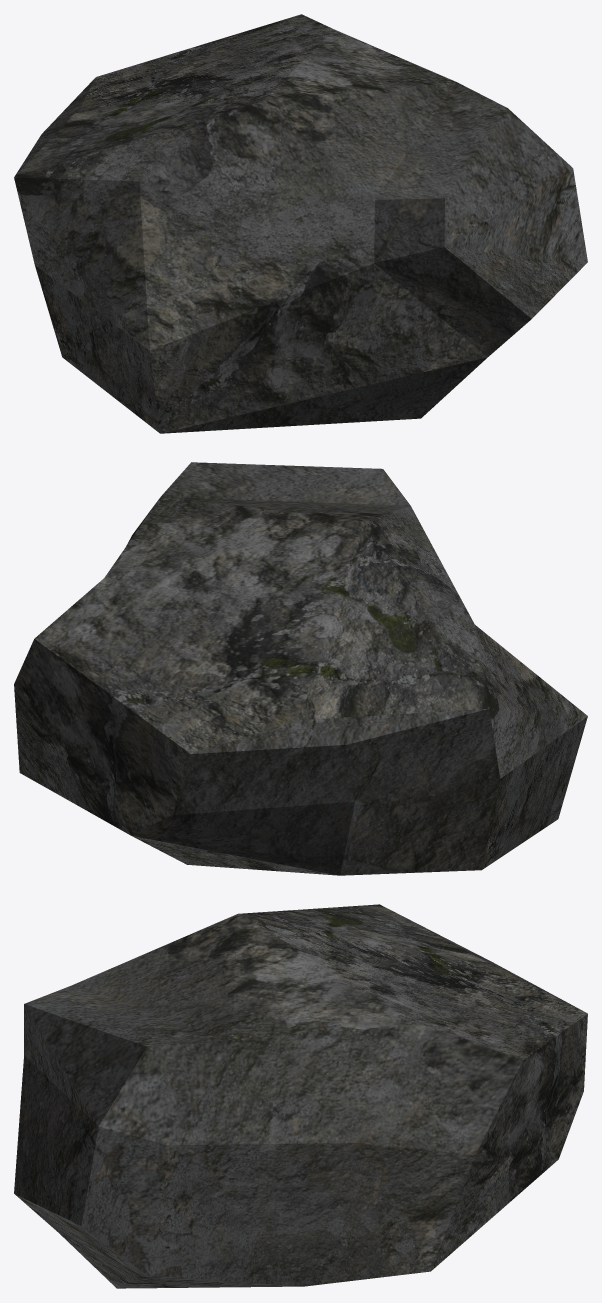
Rendered from Rock_6.fbx.
The picture shows the model from 3 angles, top to bottom: view 1: azimuth 30°, elevation 25°; view 2: azimuth 150°, elevation 25°; view 3: azimuth 270°, elevation 25°; orthographic projection. The views are drawn at different scales.
Parts seen in each view (by area): view 1: Rock_6; view 2: Rock_6; view 3: Rock_6.
Part boxes in pixels (box(x1,y1,x2,y2)): Rock_6: box(14, 14, 587, 433); Rock_6: box(14, 462, 587, 875); Rock_6: box(14, 904, 587, 1288).
Size of the model in its own units: 125 by 82.11 by 133.
